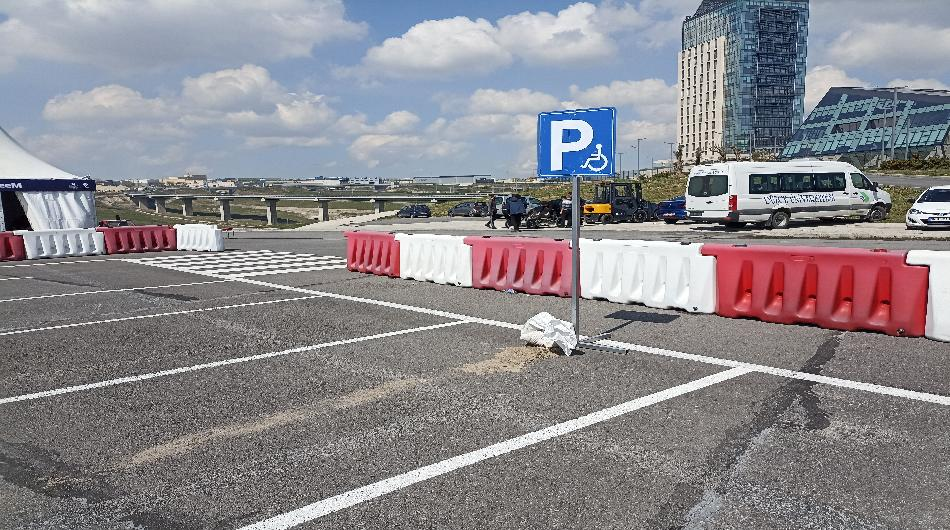engelli_park: (534, 103, 617, 182)
